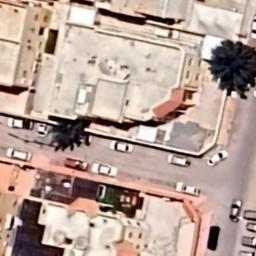SUV: (6, 148, 32, 160), (229, 198, 242, 220)
pickup: (8, 118, 32, 130), (241, 236, 256, 246), (246, 222, 256, 231), (245, 210, 256, 218), (239, 251, 255, 256)
sedan: (91, 163, 118, 177), (208, 150, 228, 166), (208, 226, 220, 250), (110, 140, 133, 152), (37, 122, 47, 136)
truck: (175, 181, 201, 196), (64, 158, 88, 170)
van: (167, 154, 191, 166)
